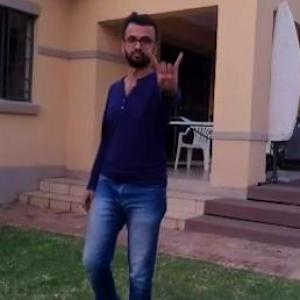takeoff-hand: (144, 42, 190, 102)
